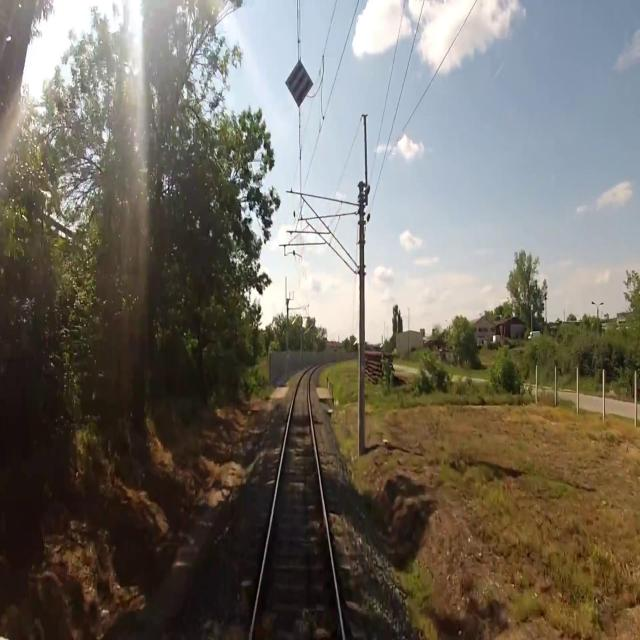rail-track: (253, 372, 340, 639)
